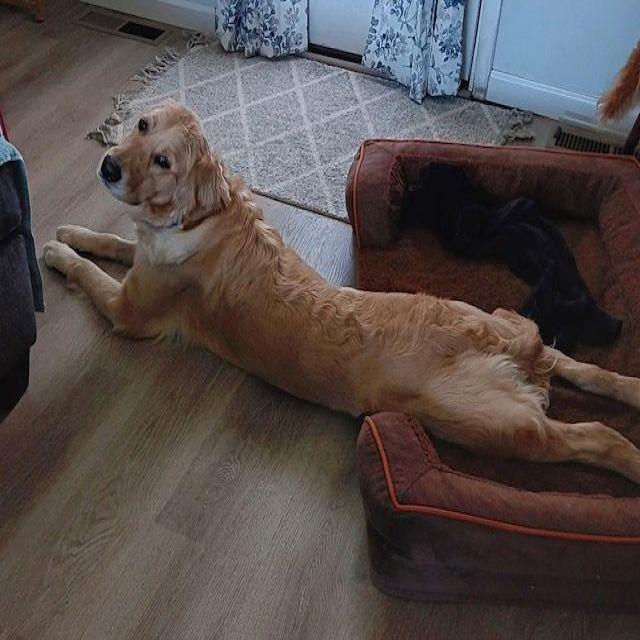golden_retriever_dog: (90, 90, 246, 240)
